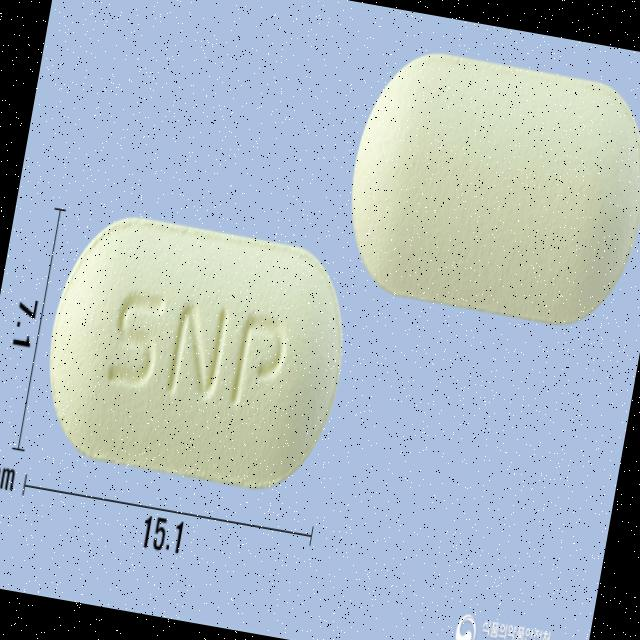A Progen Clarithromycin Tab: (31, 204, 362, 499), (334, 41, 640, 335)
